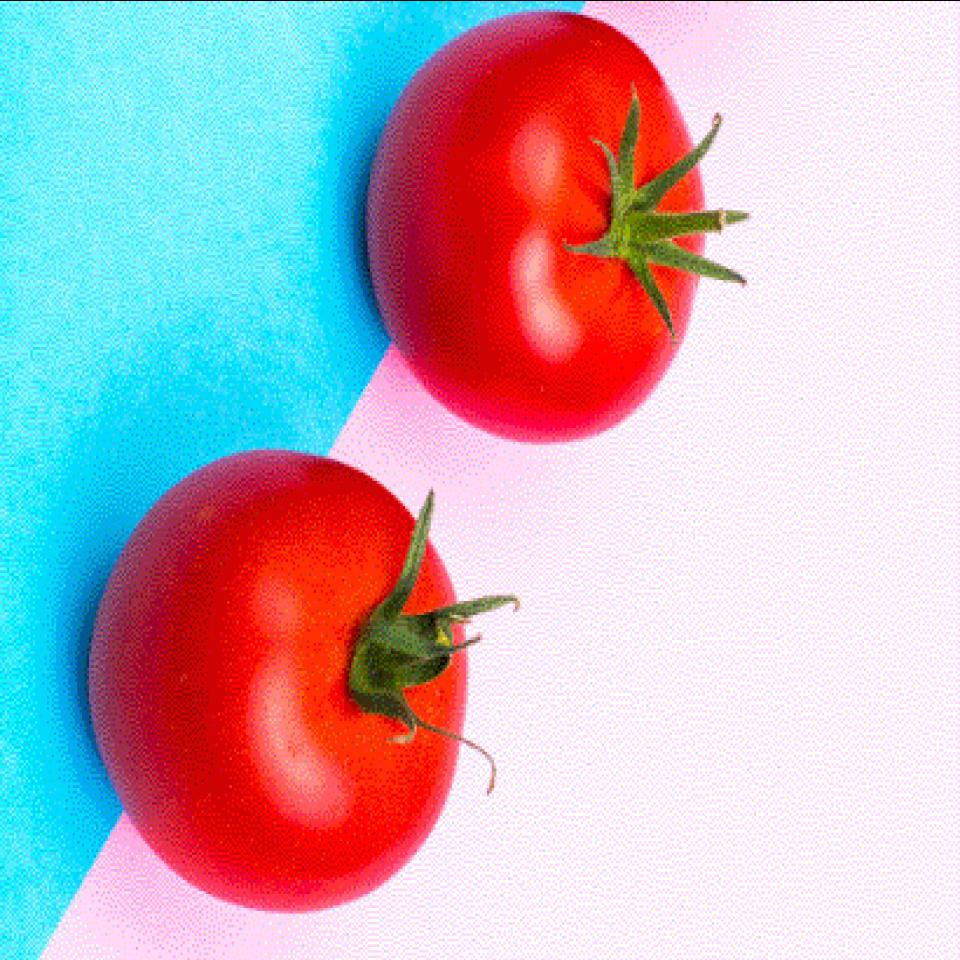Healthy: (73, 444, 476, 888), (360, 11, 702, 426)
